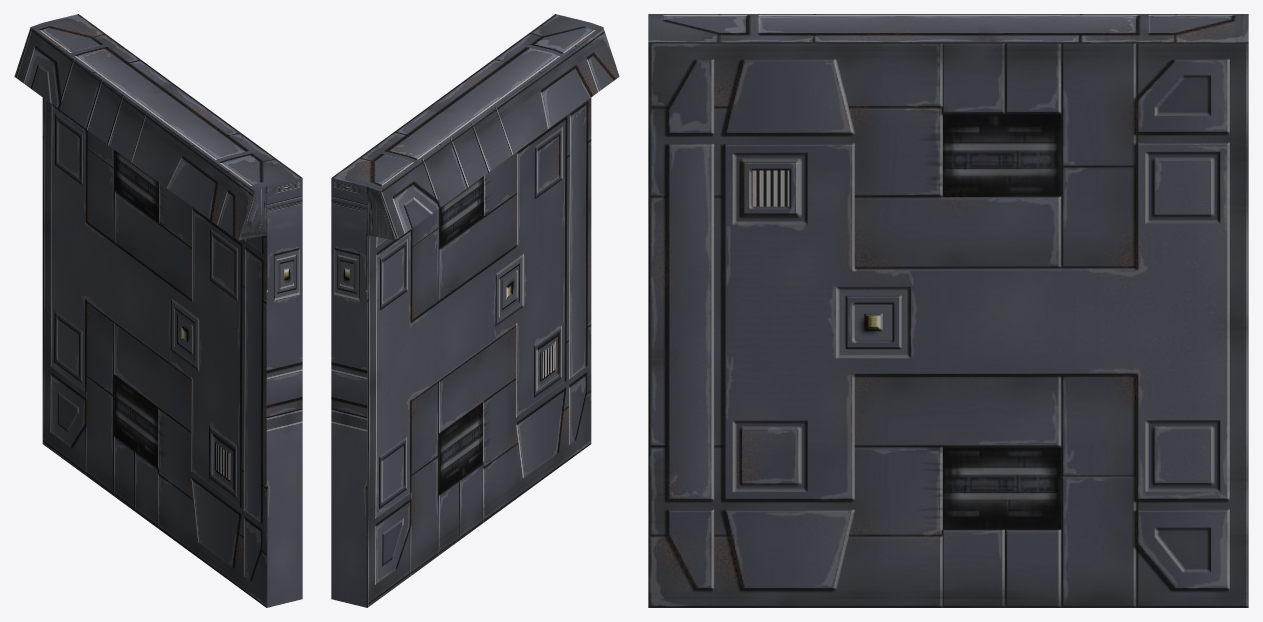
Rendered from door.fbx.
The picture shows the model from 3 angles, left to right: view 1: azimuth 30°, elevation 25°; view 2: azimuth 150°, elevation 25°; view 3: azimuth 270°, elevation 25°; orthographic projection. The views are drawn at different scales.
Parts seen in each view (by area): view 1: Cube.001; view 2: Cube.001; view 3: Cube.001.
Part boxes in pixels (x1,y1,x2,y2): Cube.001: (14,14,302,607); Cube.001: (331,14,619,607); Cube.001: (648,14,1248,607).
Bounding box in the file's own units: 0.6203 × 3.88 × 3.74.
Materials: 1 (1 with a texture image).
